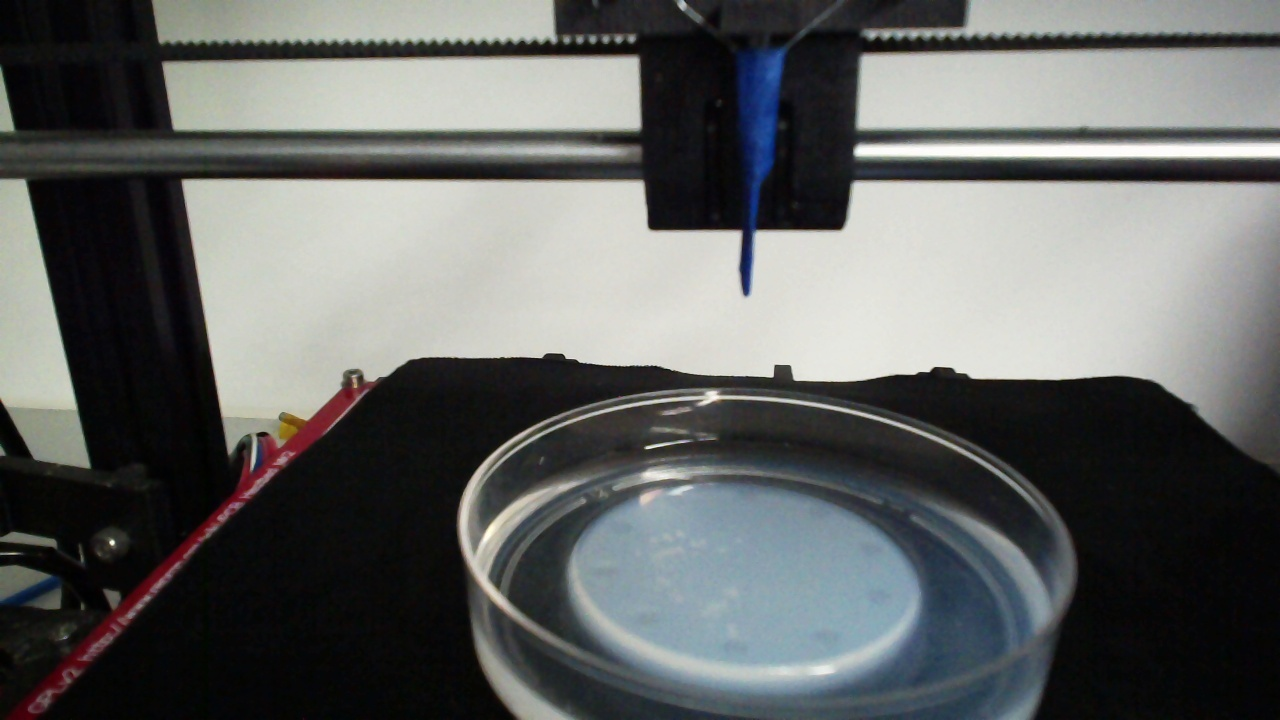groove: (628, 609, 660, 632), (587, 562, 619, 585), (807, 501, 835, 522), (722, 639, 751, 659), (864, 587, 893, 606), (814, 630, 843, 649), (860, 537, 886, 558), (608, 519, 635, 539), (732, 485, 760, 504)
needle: (736, 52, 781, 292)
